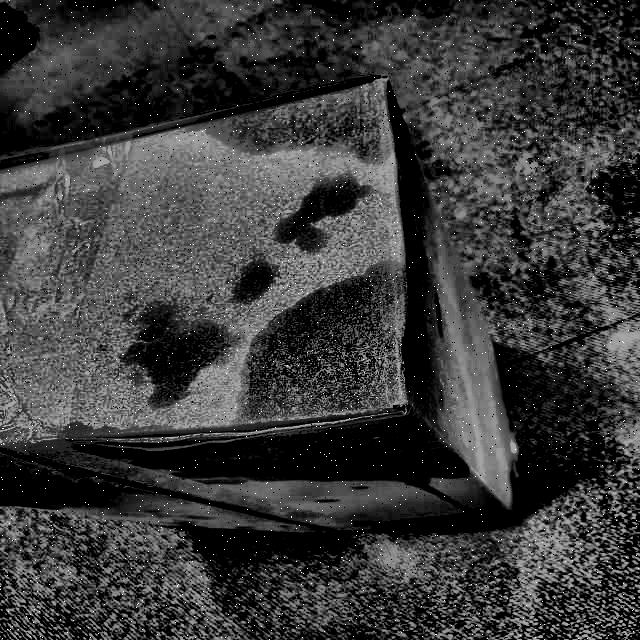box: (1, 70, 531, 543)
wet: (184, 256, 441, 479), (175, 64, 413, 181)
